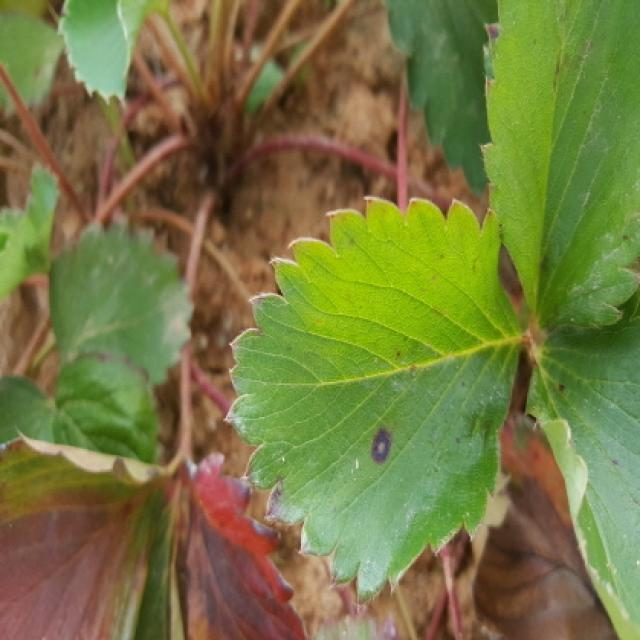Leaf Spot: (221, 193, 526, 608), (480, 0, 638, 342), (526, 287, 638, 638)
